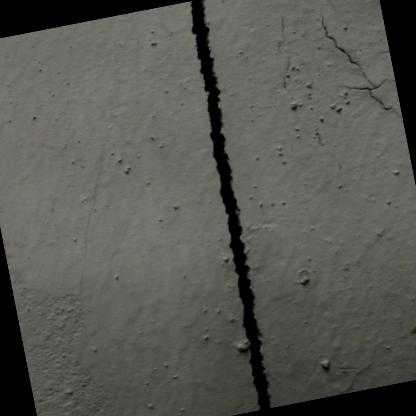crack: (189, 0, 273, 410)
